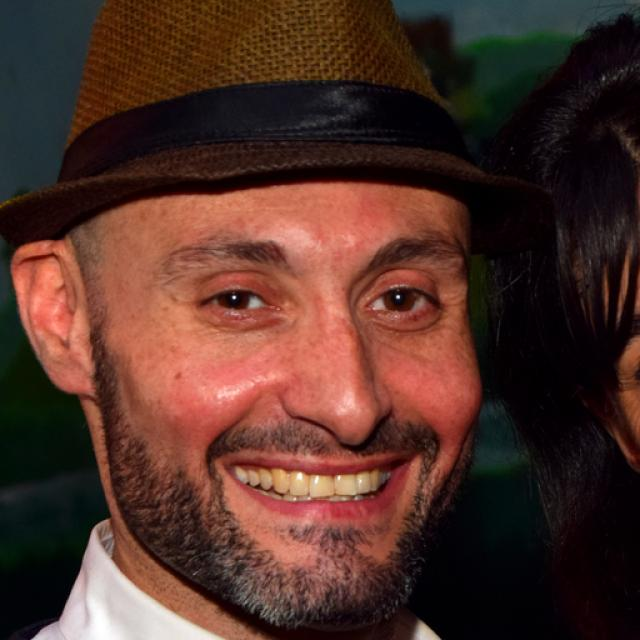Acne: (329, 246, 349, 268), (313, 230, 331, 250)
